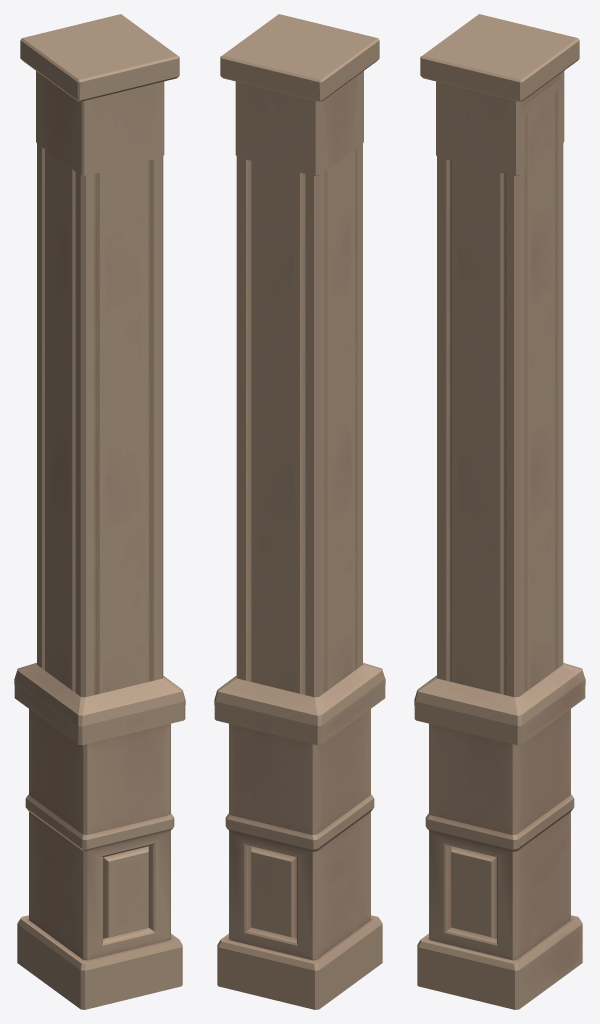
File: ColumnFull.fbx
The picture shows the model from 3 angles, left to right: view 1: azimuth 30°, elevation 25°; view 2: azimuth 150°, elevation 25°; view 3: azimuth 330°, elevation 25°; orthographic projection.
Visible parts, largest first — view 1: column2Middle1, ColumnFull (8), column2Top; view 2: column2Middle1, ColumnFull (8), column2Top; view 3: column2Middle1, ColumnFull (8), column2Top.
Part boxes in pixels (<box>): column2Middle1: <box>37,144,163,697</box>; ColumnFull (8): <box>14,662,185,1009</box>; column2Top: <box>20,14,179,175</box>; column2Middle1: <box>236,144,362,697</box>; ColumnFull (8): <box>214,662,385,1009</box>; column2Top: <box>220,14,379,175</box>; column2Middle1: <box>437,77,563,697</box>; ColumnFull (8): <box>414,663,585,1009</box>; column2Top: <box>420,14,579,175</box>.
Size of the model in its own units: 2.96 by 24.45 by 3.19.
